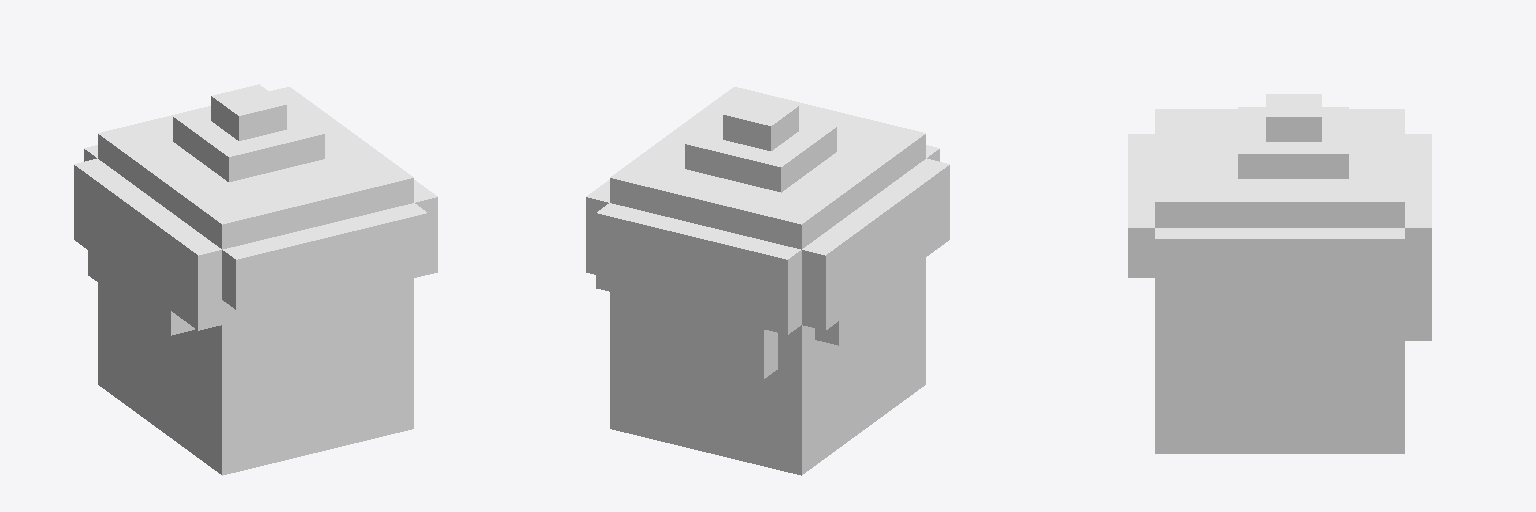
The model's file is HumanAnimation-6.obj.
3 views of the same model, side by side, from view 1: azimuth 30°, elevation 25°; view 2: azimuth 150°, elevation 25°; view 3: azimuth 270°, elevation 25° (orthographic).
Visible parts, largest first — view 1: object 1; view 2: object 1; view 3: object 1.
Part boxes in pixels (x1,y1,x2,y2): object 1: (74,84,437,475); object 1: (586,87,949,475); object 1: (1128,94,1431,453).
Bounding box in the file's own units: 1 × 1.2 × 1.1.